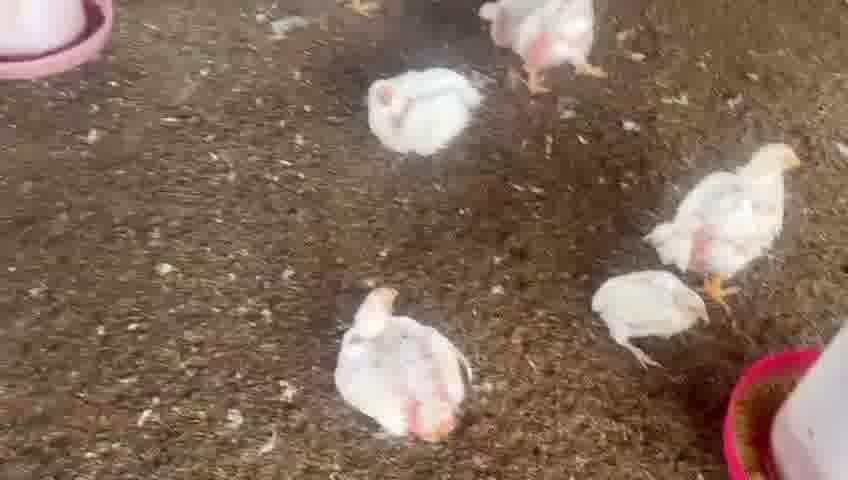AbNormal: (590, 260, 724, 354)
Normal: (651, 145, 808, 299), (332, 280, 465, 452), (359, 65, 488, 152)
